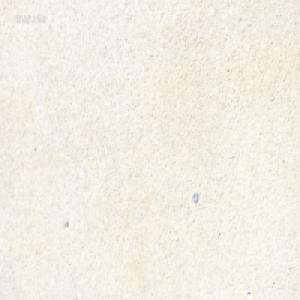Washer: (192, 191, 198, 202)
